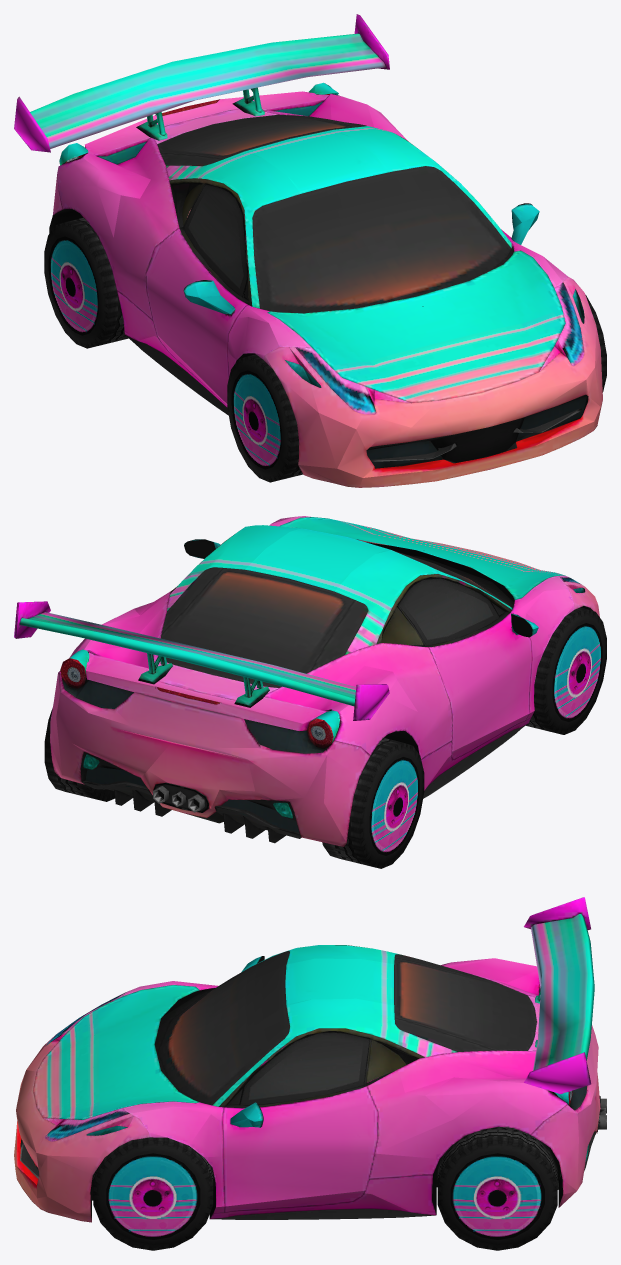
Rendered from Car 13.glb.
3 views of the same model, one above another, from view 1: azimuth 30°, elevation 25°; view 2: azimuth 150°, elevation 25°; view 3: azimuth 270°, elevation 25° (orthographic). The views are drawn at different scales.
Visible parts, largest first — view 1: carBody_low_008, Car21Gear, tireBackR_low_012, tireFrontR_low_012; view 2: carBody_low_008, Car21Gear, tireBackR_low_012, tireFrontR_low_012, tireBackL_low_012; view 3: carBody_low_008, tireBackL_low_012, Car21Wheel1, Car21Gear.
Part boxes in pixels (x1,y1,x2,y2): carBody_low_008: (49, 82, 602, 487); Car21Gear: (14, 14, 389, 152); tireBackR_low_012: (44, 217, 128, 348); tireFrontR_low_012: (227, 354, 303, 482); carBody_low_008: (50, 516, 599, 846); Car21Gear: (14, 601, 389, 720); tireBackR_low_012: (322, 738, 424, 868); tireFrontR_low_012: (526, 607, 606, 734); tireBackL_low_012: (44, 708, 114, 801); carBody_low_008: (14, 945, 606, 1222); tireBackL_low_012: (437, 1126, 557, 1250); Car21Wheel1: (93, 1137, 213, 1250); Car21Gear: (524, 897, 594, 1094).
Bounding box in the file's own units: 0.7147 × 0.4196 × 1.11.
Materials: 3 (3 with a texture image).
